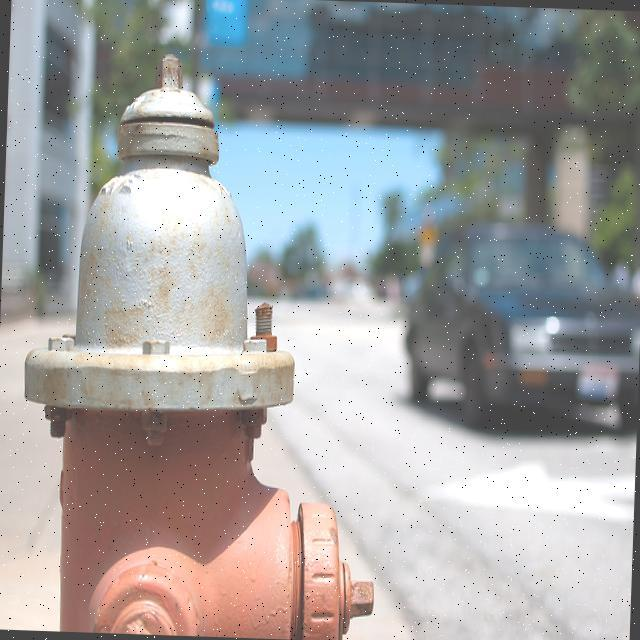fire_hydrant: (15, 50, 393, 632)
